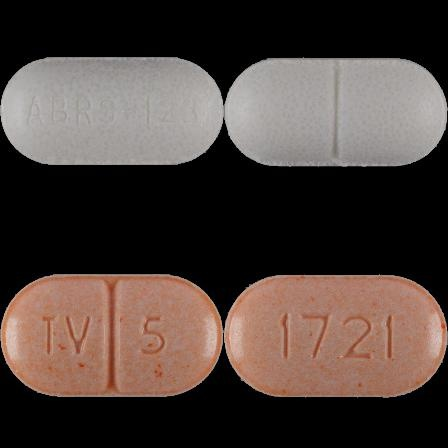63187-668: (0, 0, 224, 224)
